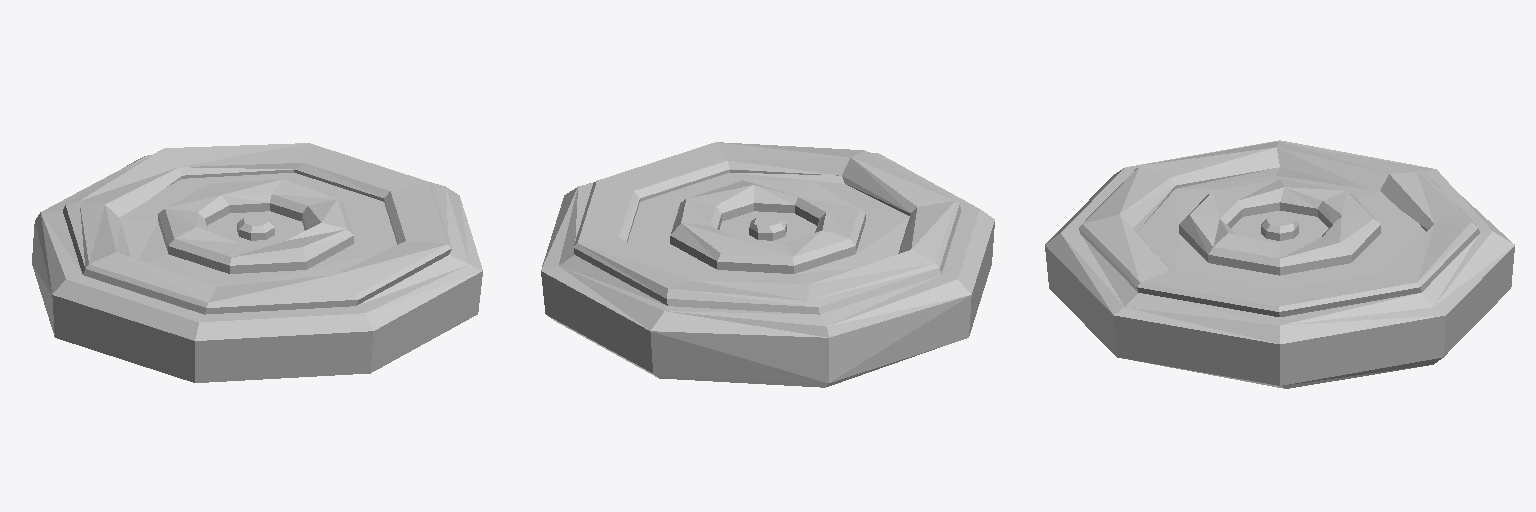
The model's file is Tarca-final.obj.
The picture shows the model from 3 angles: view 1: azimuth 30°, elevation 25°; view 2: azimuth 150°, elevation 25°; view 3: azimuth 270°, elevation 25°; orthographic projection.
Parts seen in each view (by area): view 1: Circle_Circle.001; view 2: Circle_Circle.001; view 3: Circle_Circle.001.
Boxes of the visible parts, x1,y1,x2,y2 form: Circle_Circle.001: [32, 143, 482, 382]; Circle_Circle.001: [541, 142, 994, 387]; Circle_Circle.001: [1045, 140, 1514, 388].
Bounding box in the file's own units: 1.67 × 0.3325 × 1.67.